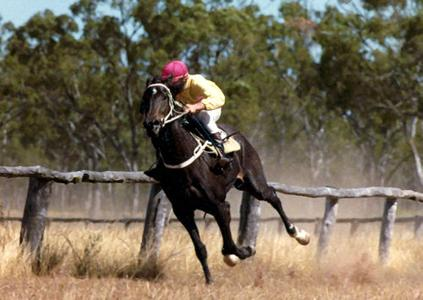person: (161, 57, 242, 163)
